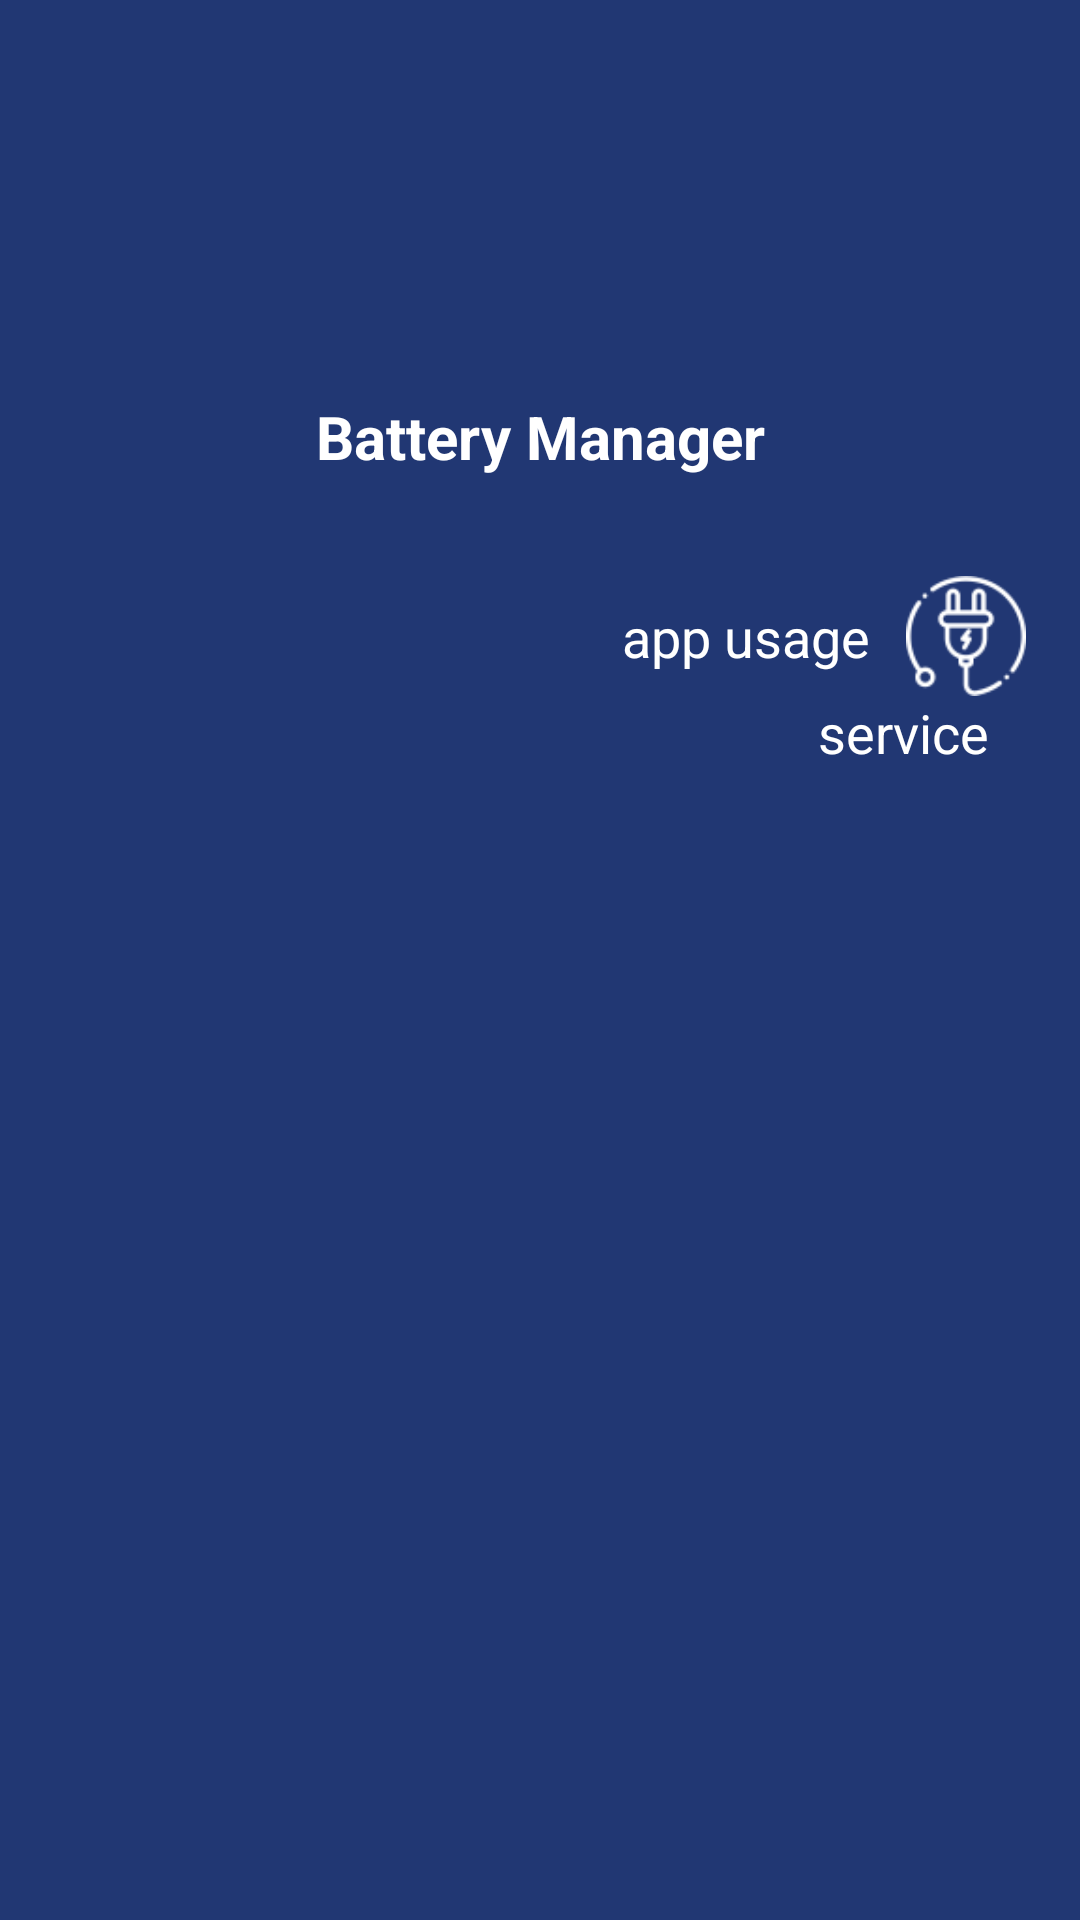

Where to tap for icons on this 1080px x 1920px app screen, as (x=x, y=y):
plug: (x=966, y=636)
